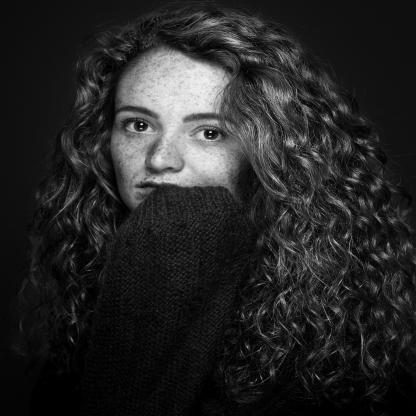Eye: (184, 121, 235, 147), (118, 115, 163, 140)
Nose: (141, 138, 187, 172)
